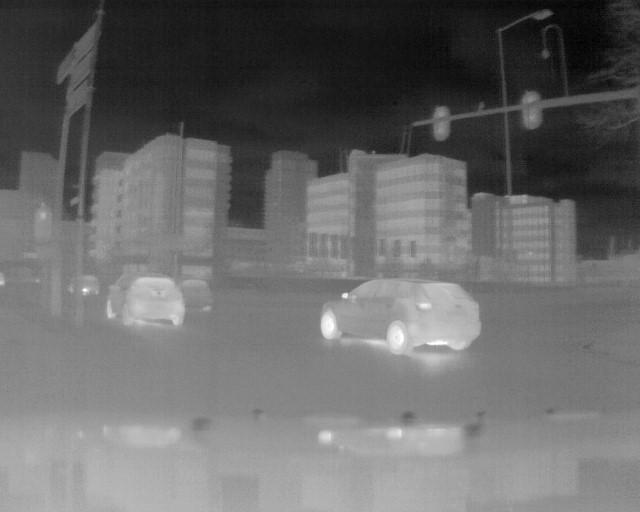car: (320, 276, 483, 354), (103, 268, 189, 327)
